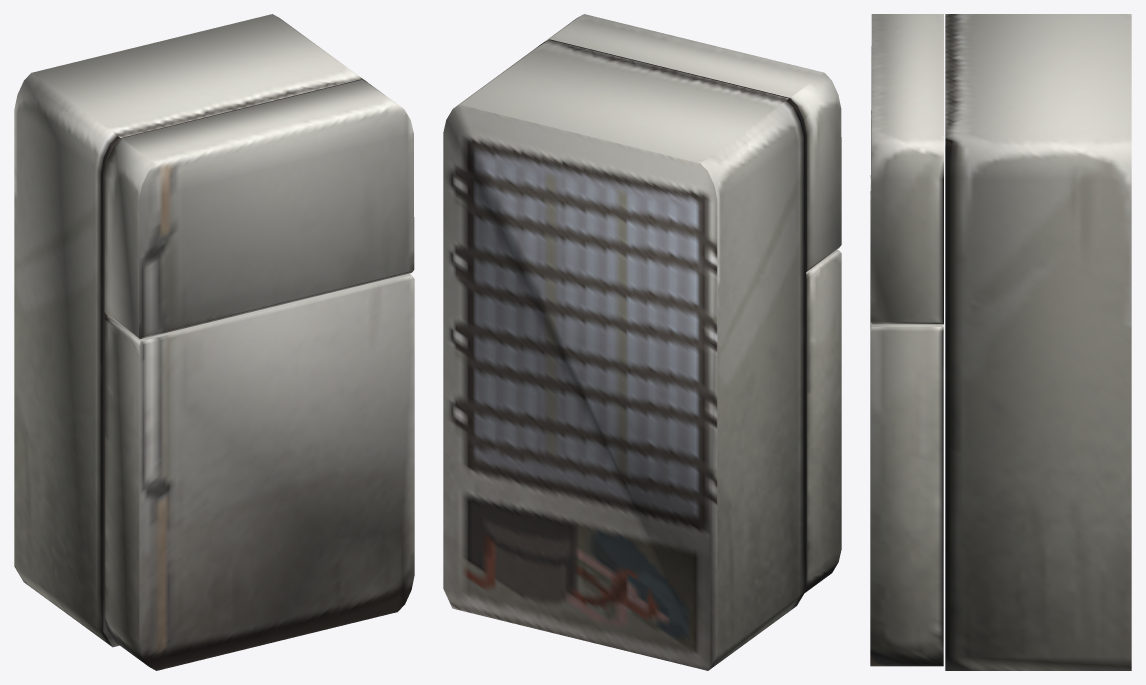
Rendered from W_Fridge1w.fbx.
3 renders of one model, left to right at view 1: azimuth 30°, elevation 25°; view 2: azimuth 150°, elevation 25°; view 3: azimuth 270°, elevation 25°, orthographic. The views are drawn at different scales.
Visible parts, largest first — view 1: W_Fridge1w; view 2: W_Fridge1w; view 3: W_Fridge1w.
Part boxes in pixels (<box>): W_Fridge1w: <box>14,14,414,670</box>; W_Fridge1w: <box>443,14,841,670</box>; W_Fridge1w: <box>870,14,1131,670</box>.
Bounding box in the file's own units: 0.5986 × 1.05 × 0.4706.
